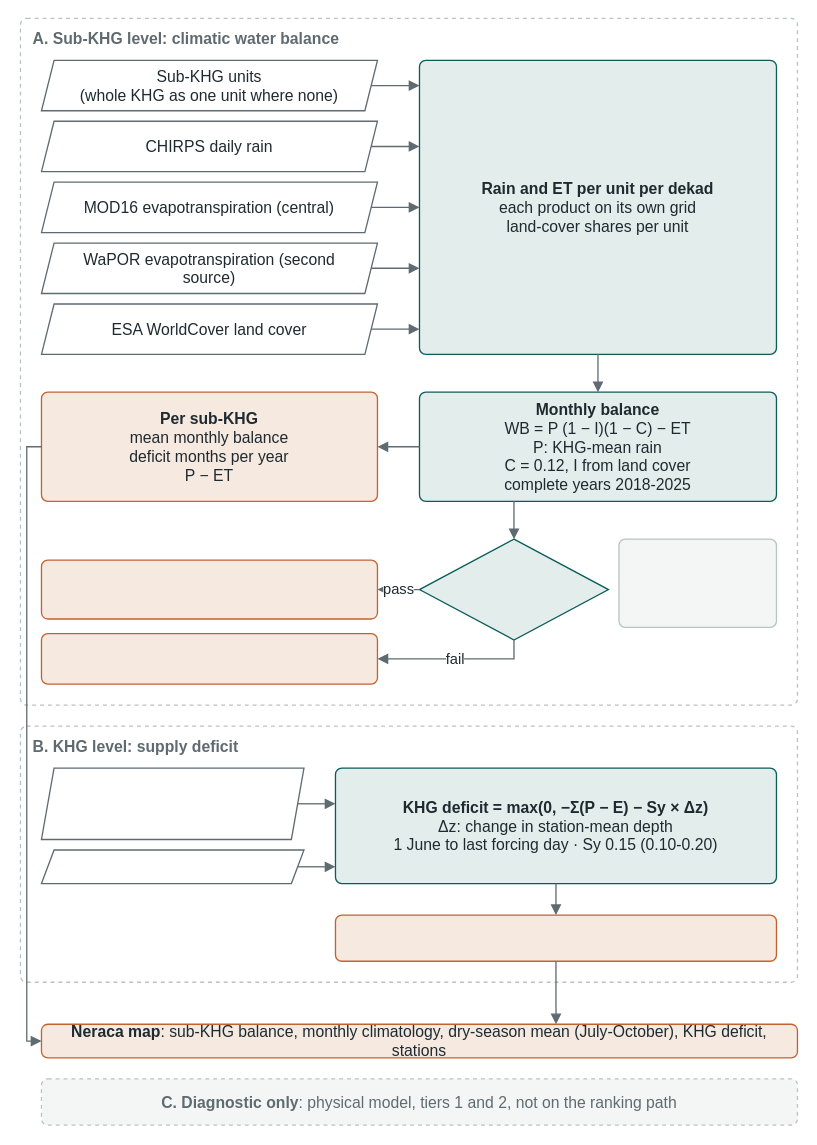
This 817x1145 diagram has some shape labels left out. The shapes that lost their labels are listed below. From the top down, each one's centre as x and y in pixels, then its label:
(x=209, y=589): Usable for ranking rank-sum water slot reads P − ET
(x=513, y=589): Order test
(x=697, y=583): ET products agree; order holds between years (p < 0.01 against a random order)
(x=209, y=658): Values left empty in the ranking
(x=172, y=803): SiTMAT station depths (readings on at least 50 % of days)
(x=172, y=866): ERA5 daily rain and evaporation
(x=555, y=937): Deficit in mm and million m³ · deficit months
